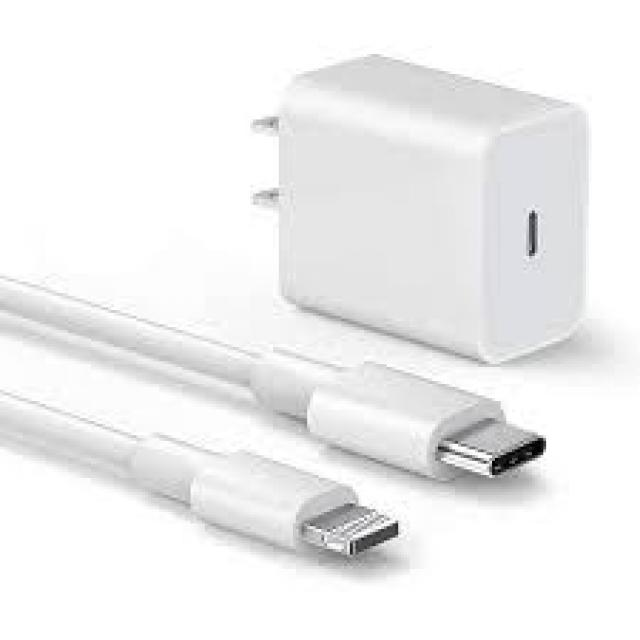battery charger: (243, 57, 602, 371), (210, 297, 580, 594)
